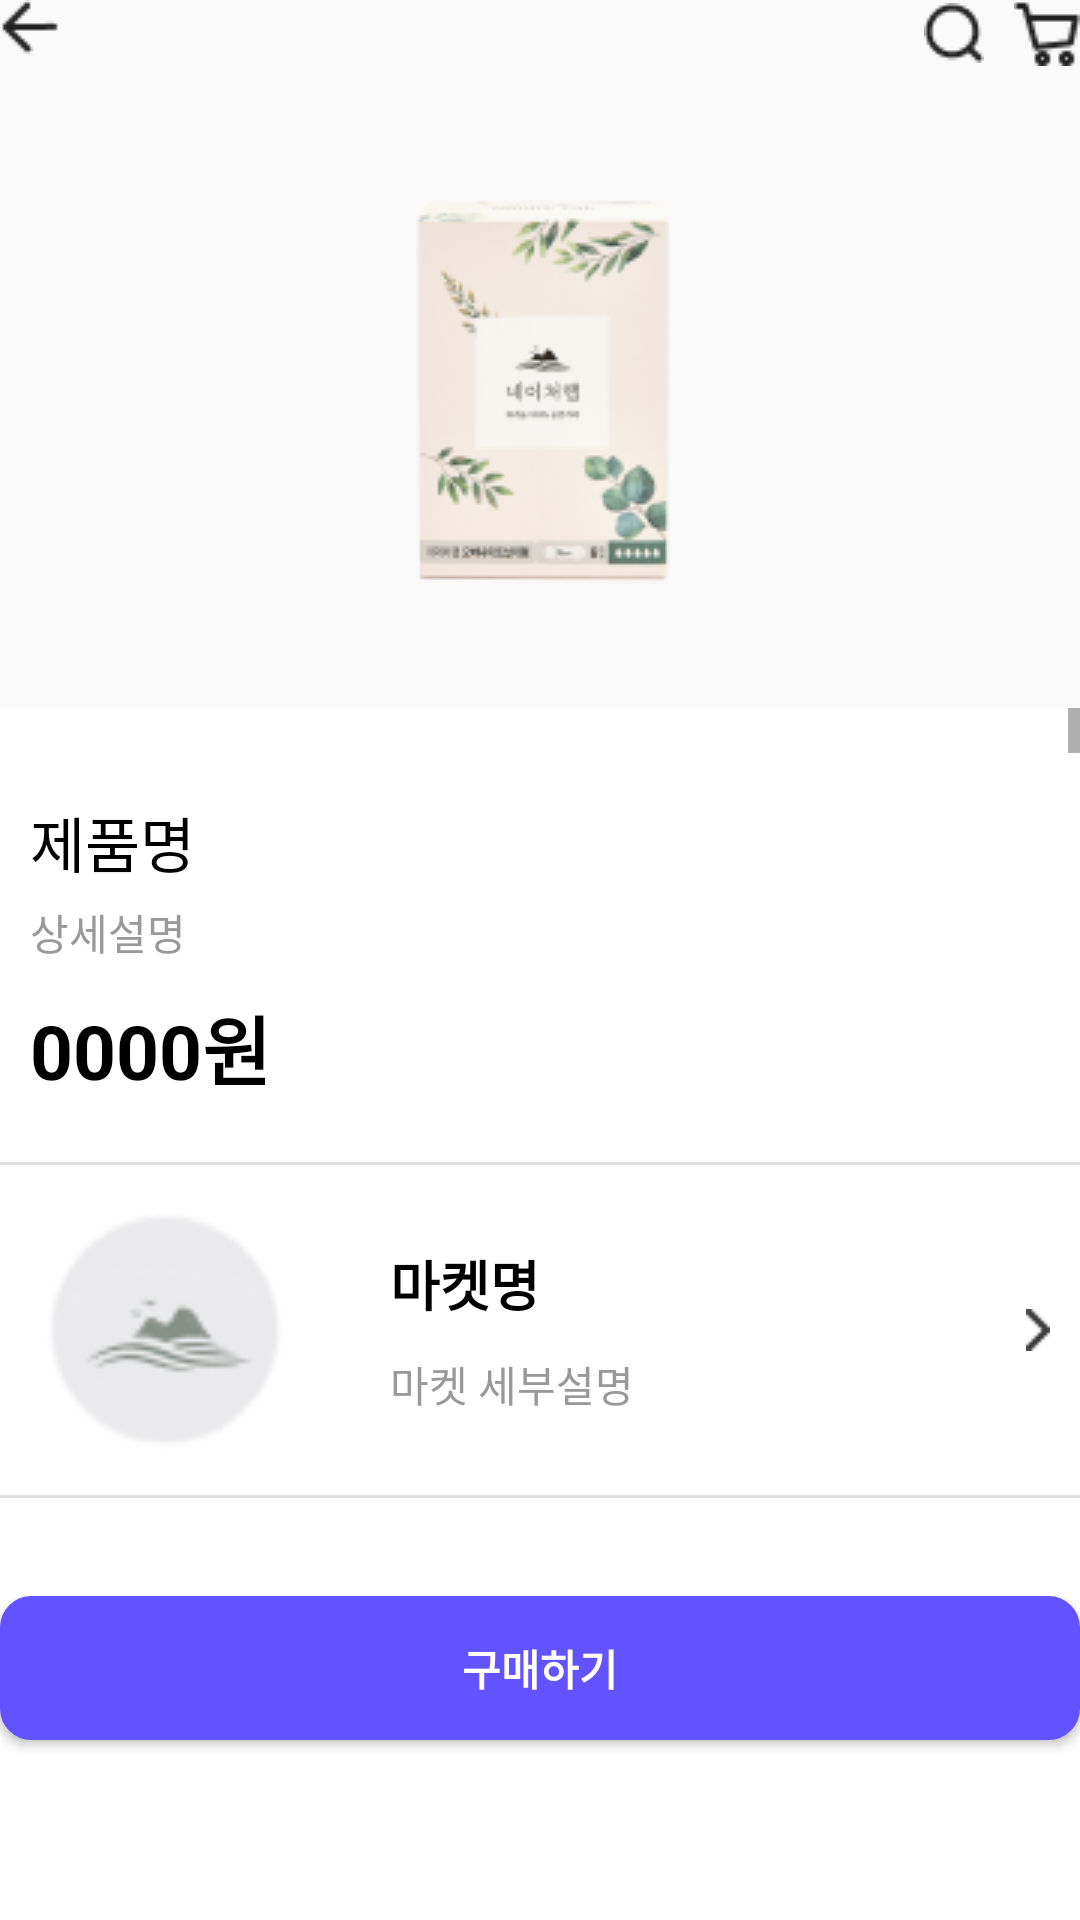

Icon click points for this 1080x1920 phone screenshot, format (x,y):
cart: (1047,34)
search: (954,33)
